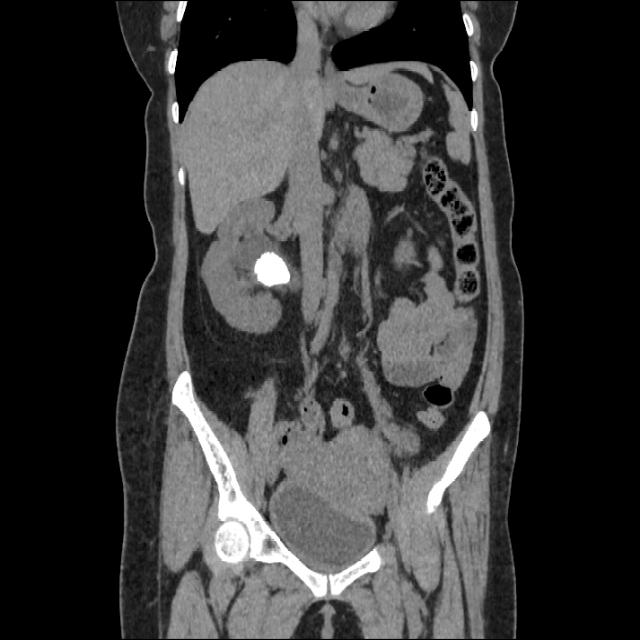kidney: (229, 215, 287, 327)
stone: (257, 256, 285, 285)
